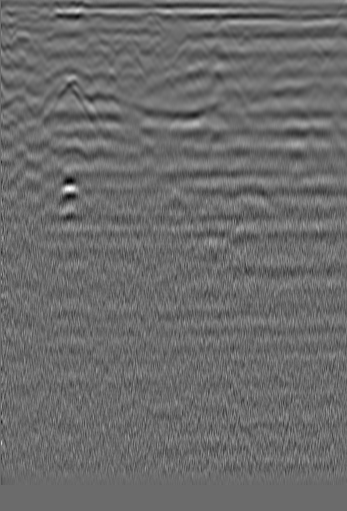가스: (47, 174, 88, 207)
상수: (304, 27, 324, 47)
오수: (15, 26, 35, 46)
우수: (149, 17, 169, 37)
